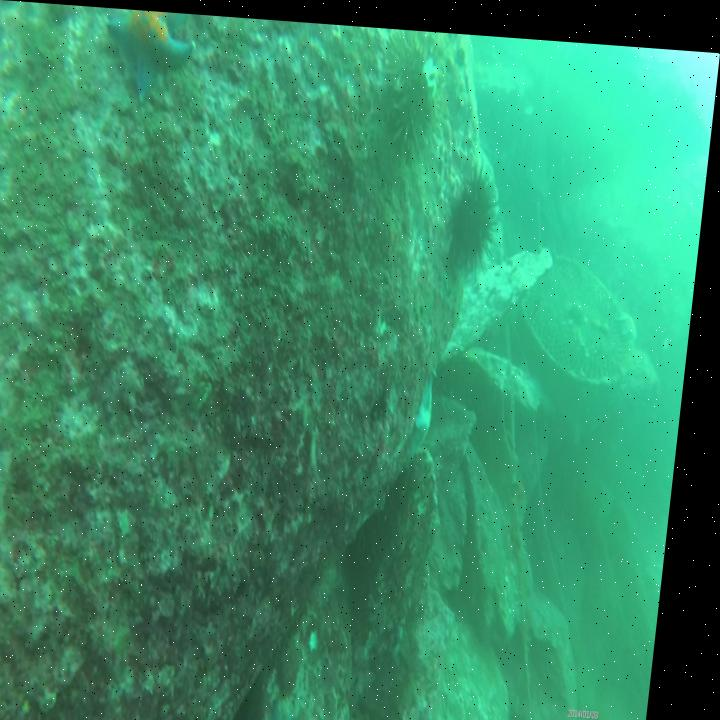echinus: (370, 22, 447, 152), (451, 152, 511, 273)
starfish: (101, 6, 203, 94)
